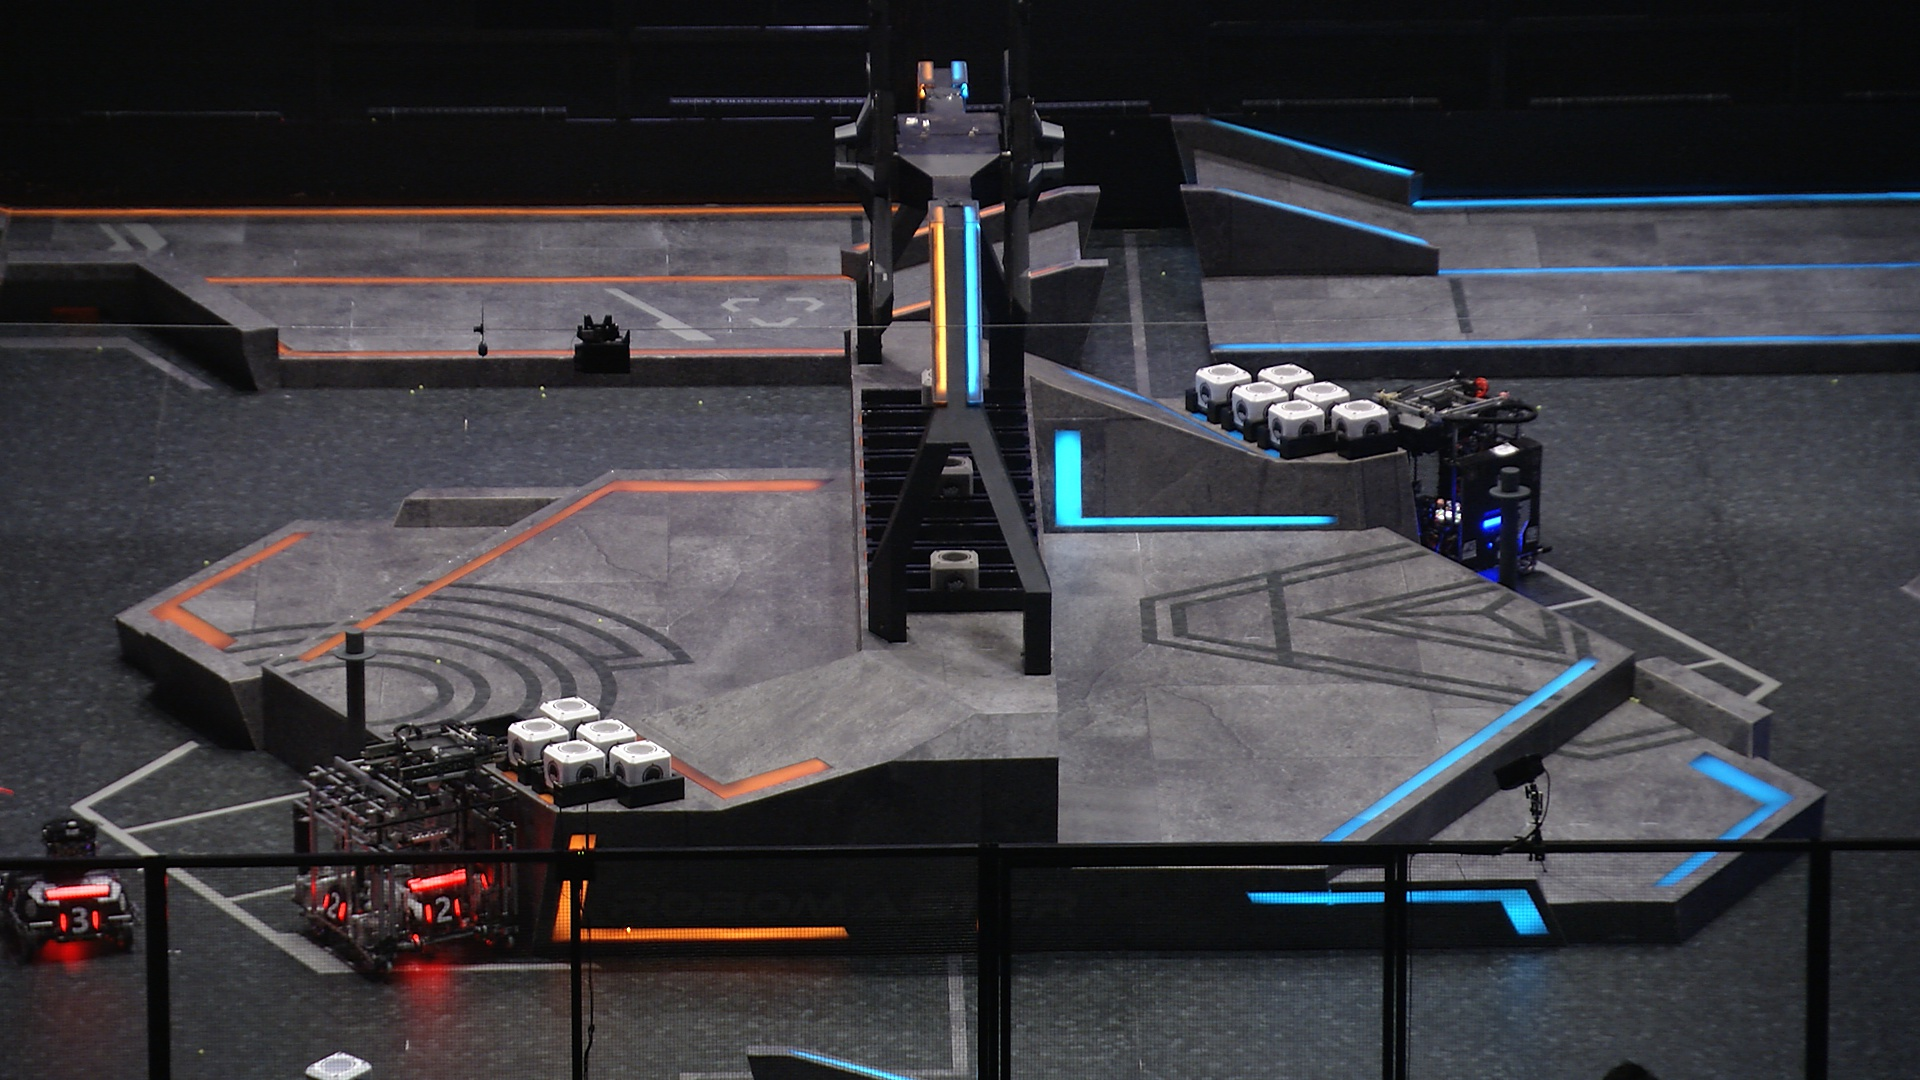armor: (419, 893, 463, 926), (55, 907, 103, 936), (319, 891, 348, 922)
car: (291, 717, 531, 975), (1360, 380, 1548, 580)
